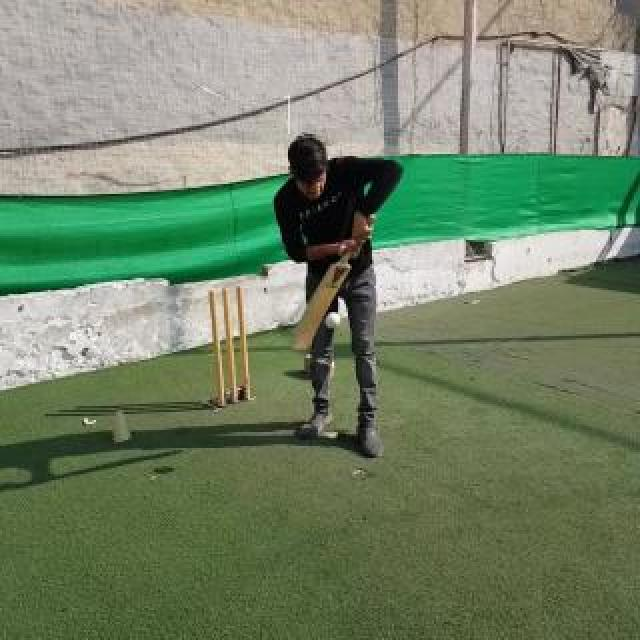ball: (326, 312, 342, 330)
bat: (292, 214, 378, 352)
